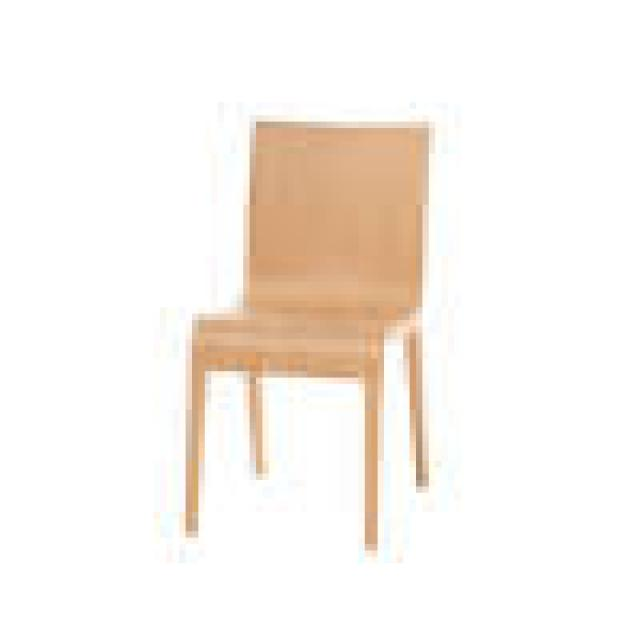chair: (108, 72, 555, 570)
